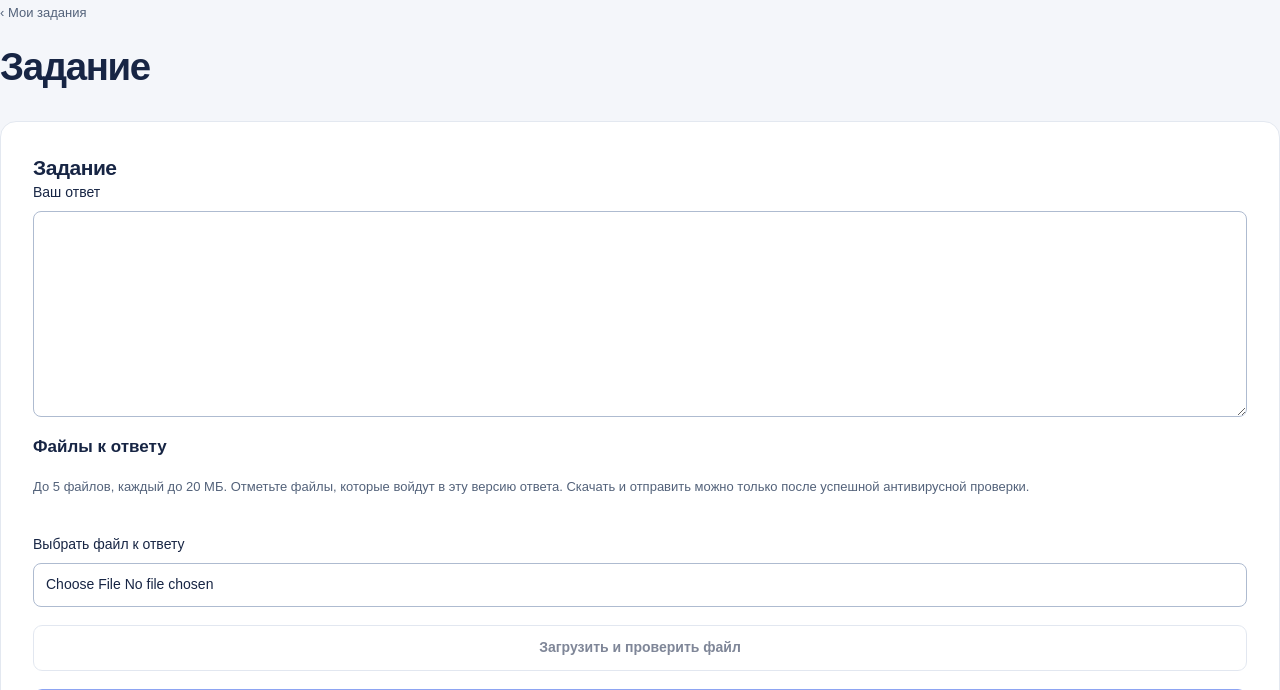
Test: submission files and revisions › retains text on stale revision and blocks unsaved navigation
In the text box labelled "Ваш ответ": (640, 314) [33,211,1247,418], type "Новая версия решения"
(page scrolled)
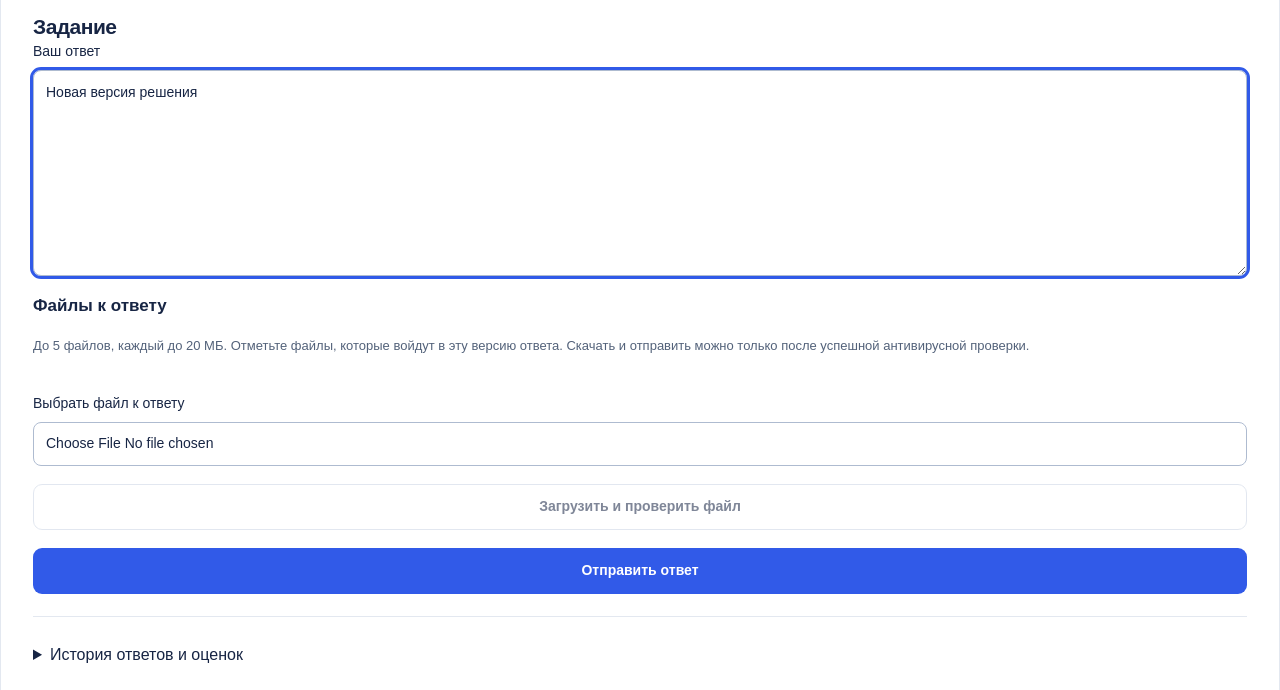
Click the button "Отправить ответ": click(640, 571) [33,548,1247,594]
(page scrolled)
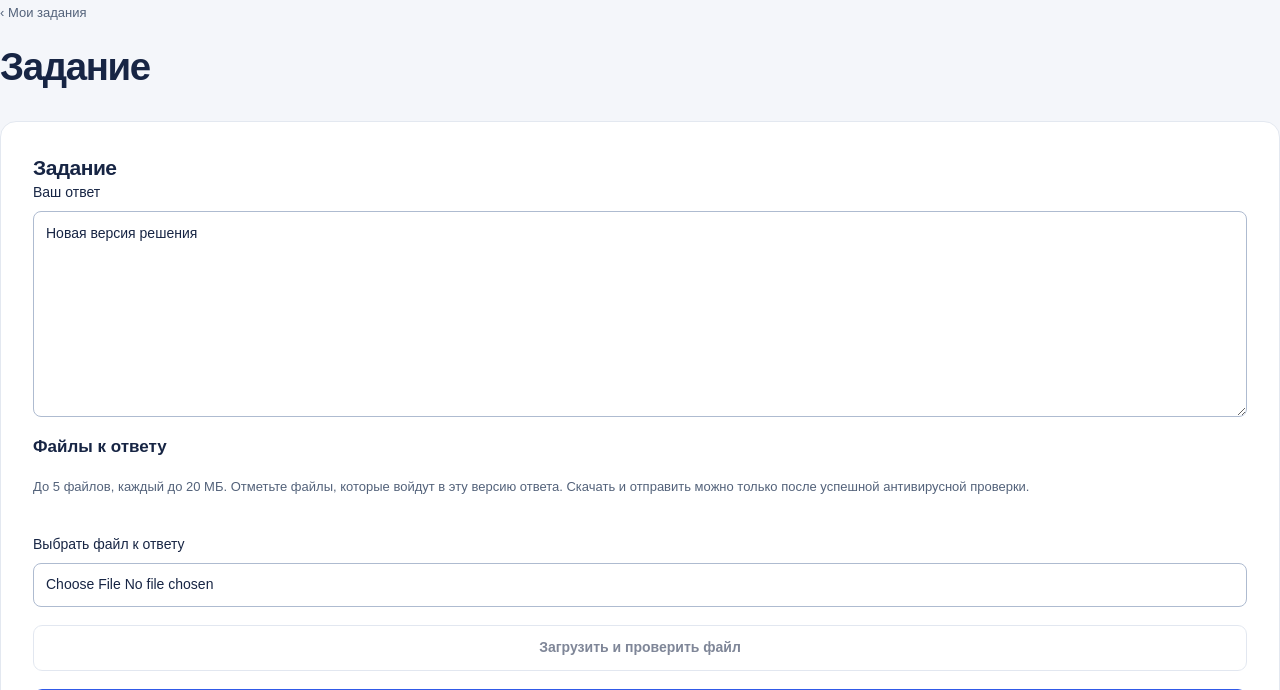
Click the link "‹ Мои задания": click(43, 13) [0,3,86,22]
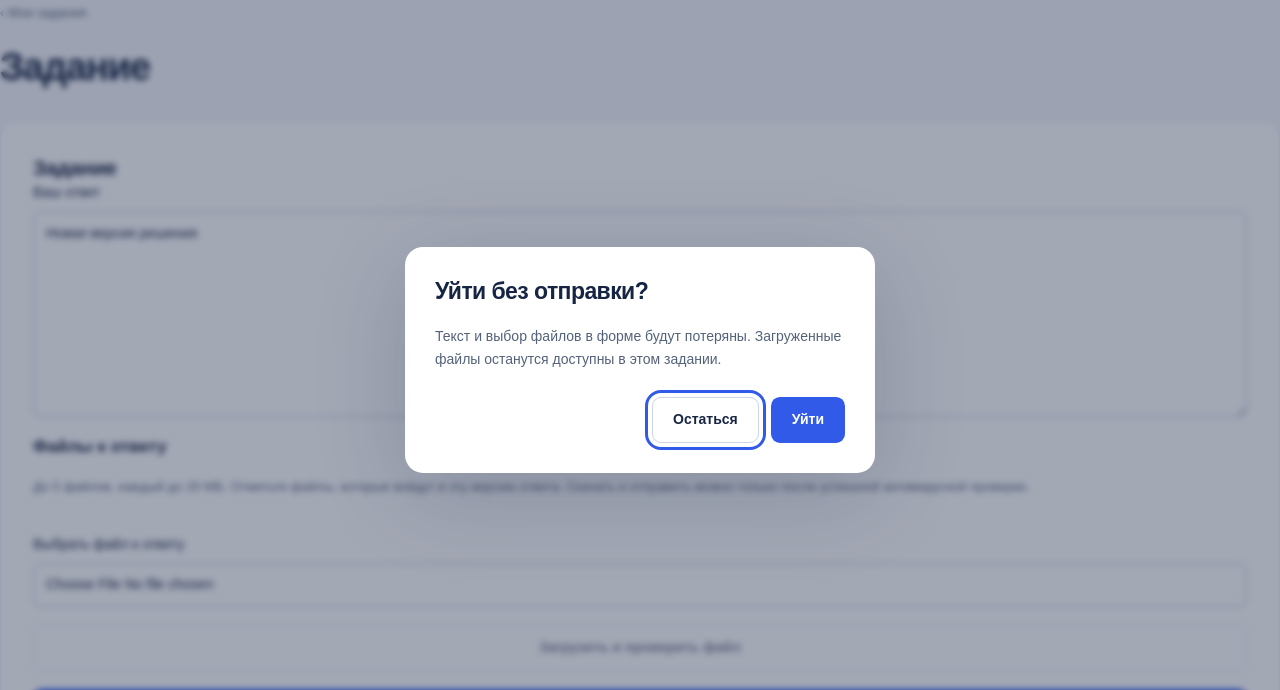
Check: the dialog shows "Уйти без отправки?", box [435,278,648,304]
